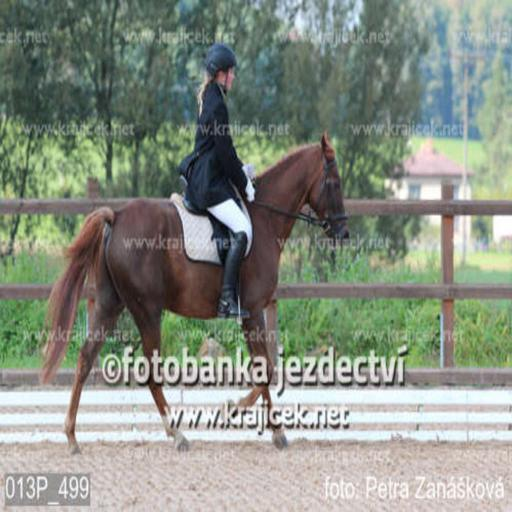horse: (34, 128, 349, 458)
